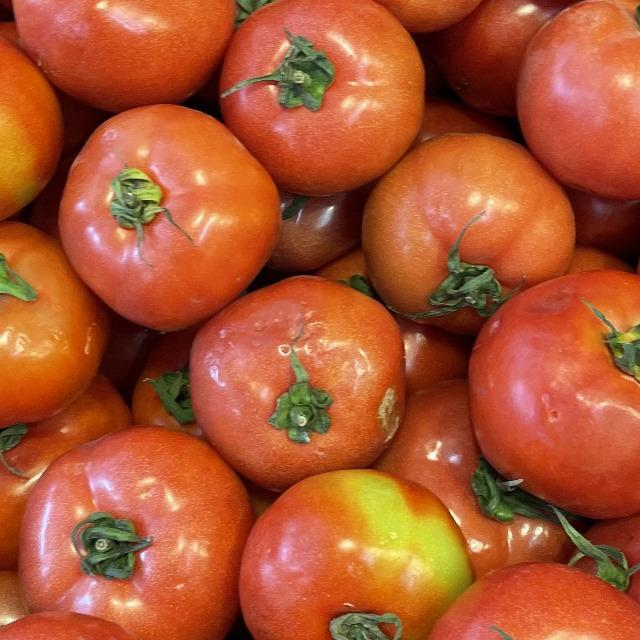tomato: (50, 80, 290, 325), (197, 0, 450, 210), (457, 242, 640, 525), (470, 0, 640, 210), (0, 180, 137, 432), (5, 0, 242, 107), (392, 555, 640, 640)
